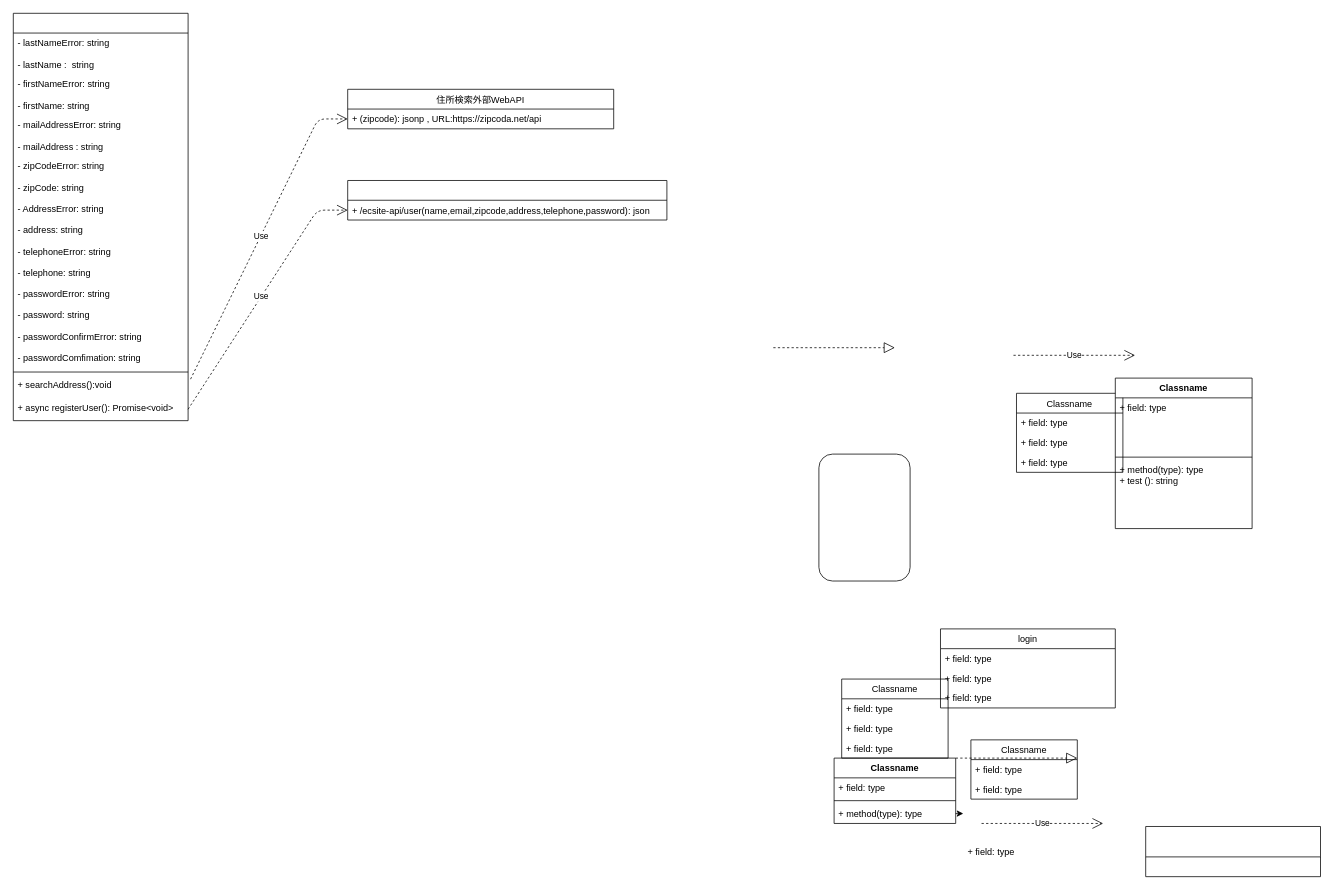
This 1334x890 diagram has some shape labels left out. The shapes that lost their labels are listed below. From the top down, each one's box as (x1, y1, x2, y2) in pixels, then its label:
(13, 13, 188, 421): registerUser.vue
(347, 180, 667, 220): 外部WebAPI
(818, 453, 910, 581): 必要なクラス図 ・
(1145, 826, 1320, 877): UserAdmin.vue
